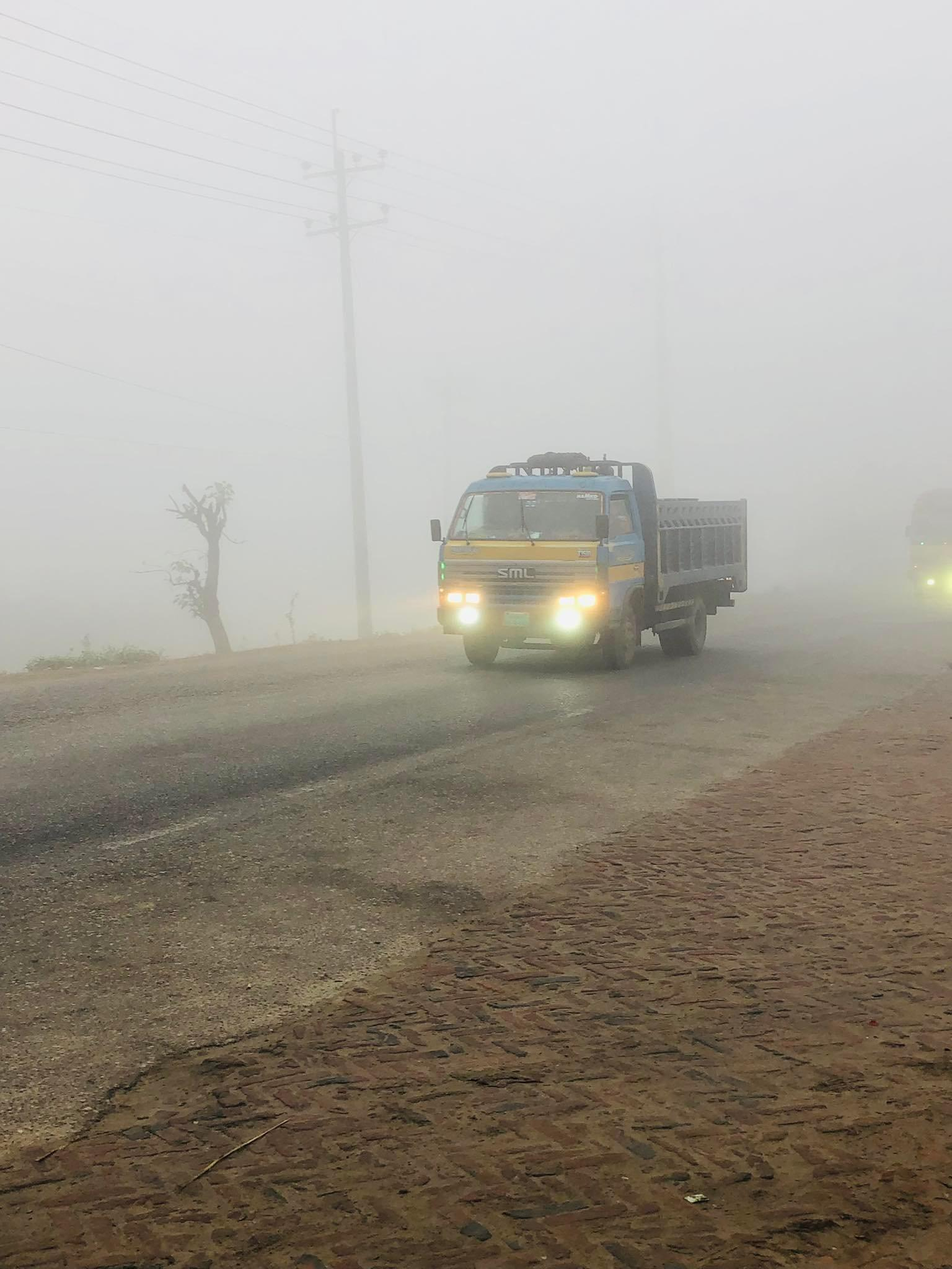Truck: (418, 426, 772, 678)
